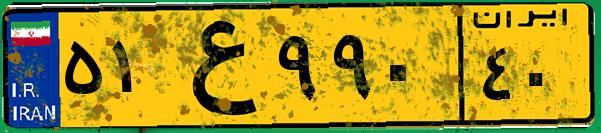0: (385, 28, 445, 110), (525, 38, 570, 115)
1: (110, 28, 158, 98)
4: (475, 38, 525, 113)
5: (57, 26, 110, 100)
9: (270, 28, 330, 110), (330, 28, 385, 110)
ع: (158, 12, 270, 120)
